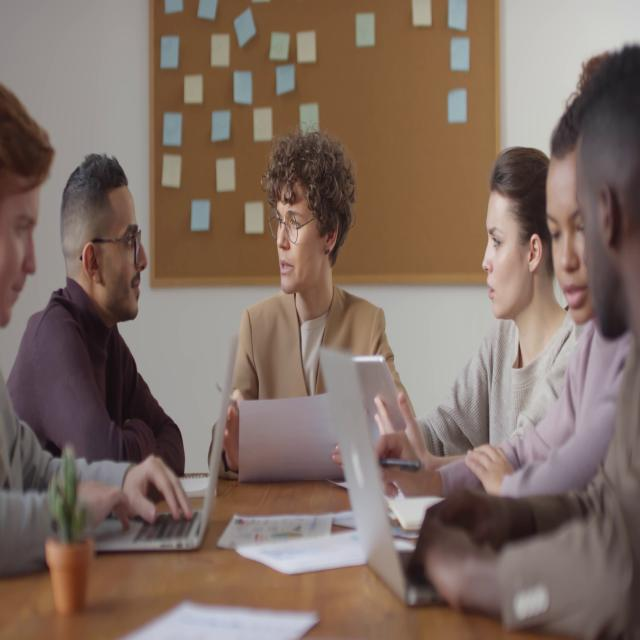not-gloved: (120, 451, 192, 527), (463, 444, 516, 497)
